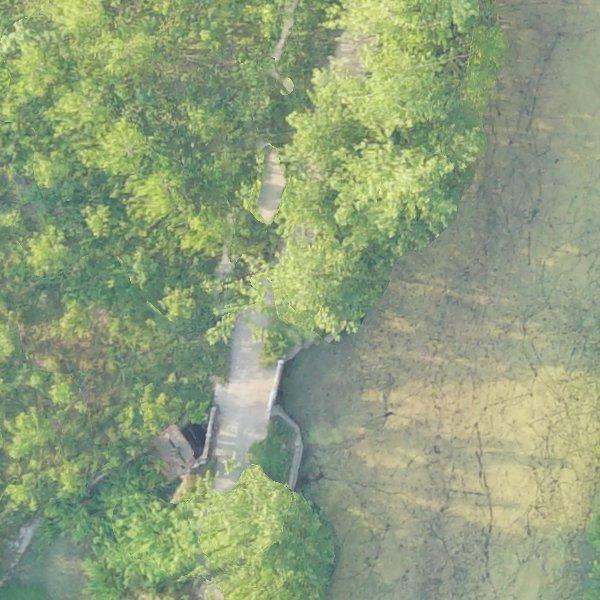Type1: (257, 336, 337, 454)
